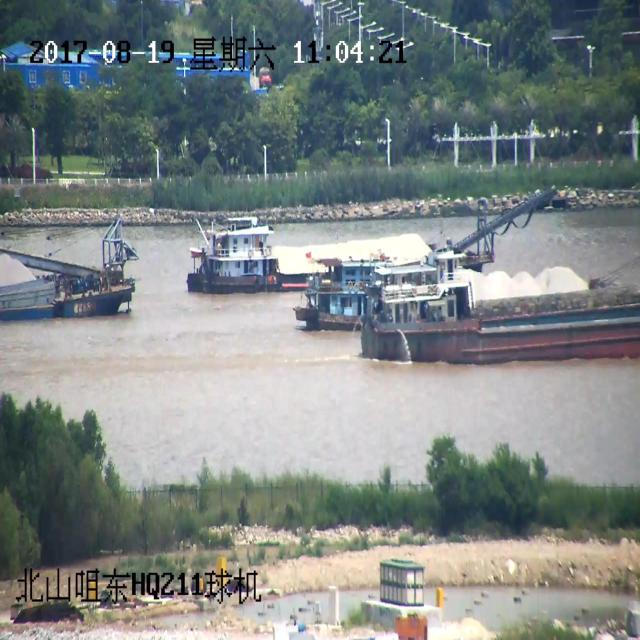cargoship: (365, 264, 640, 365), (183, 204, 430, 276), (0, 216, 144, 325), (299, 255, 418, 321)
